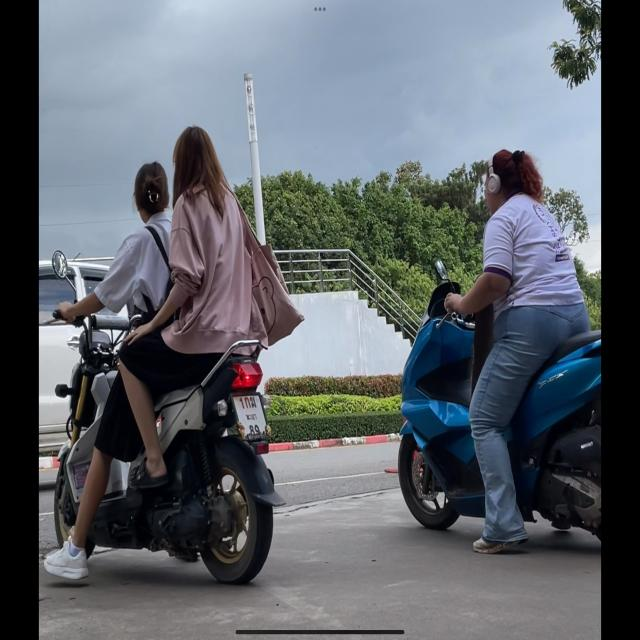seatbelt: (483, 145, 527, 216), (172, 124, 216, 194), (134, 159, 168, 223)
